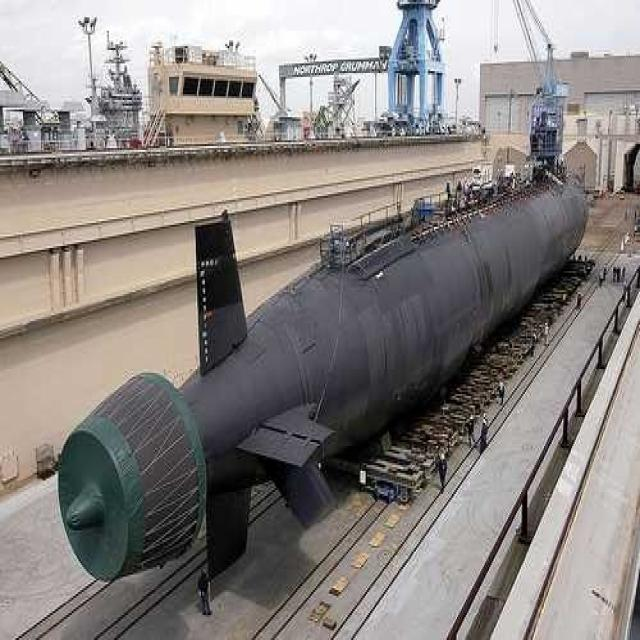missile: (59, 181, 580, 565)
